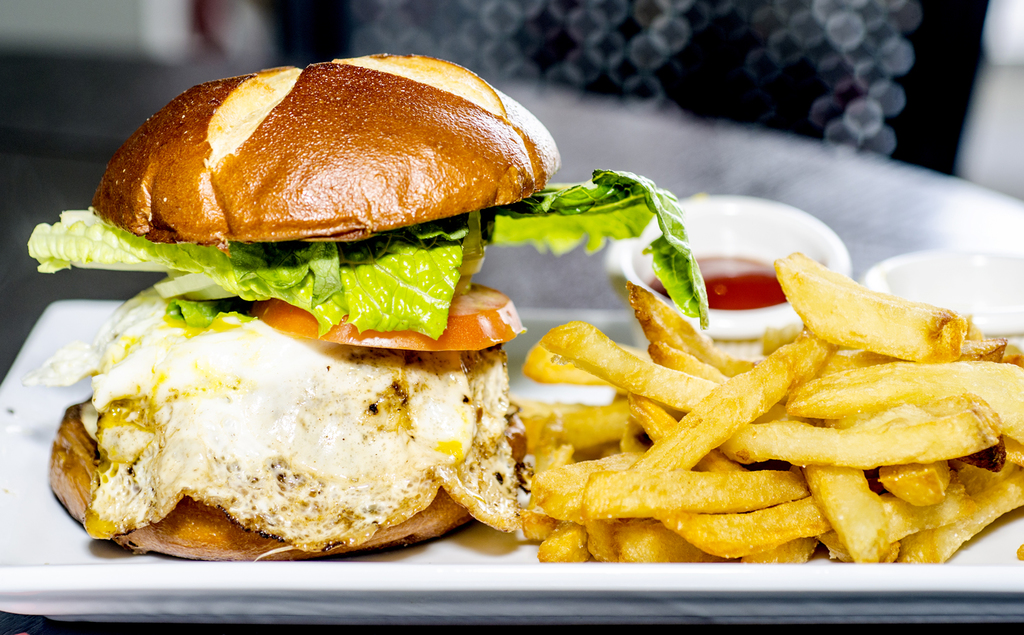French fries: (503, 245, 1023, 572)
